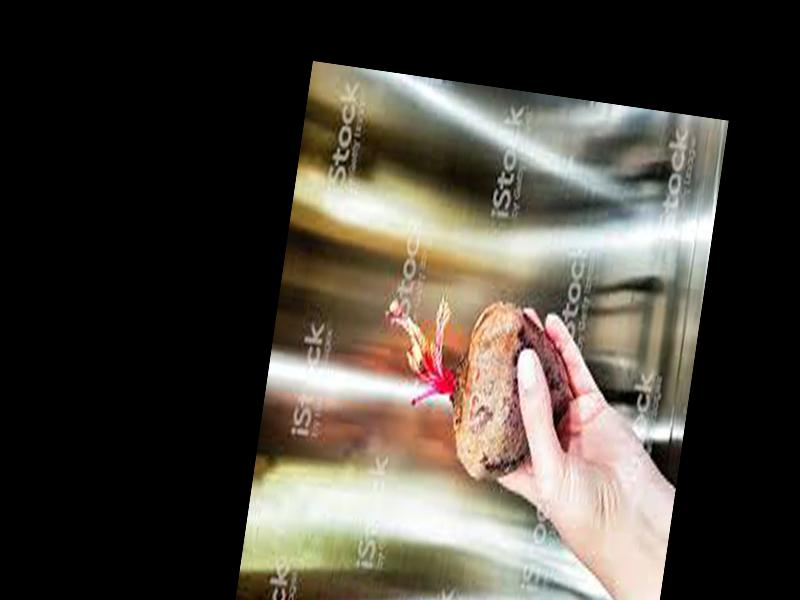Beet: (369, 286, 582, 488)
